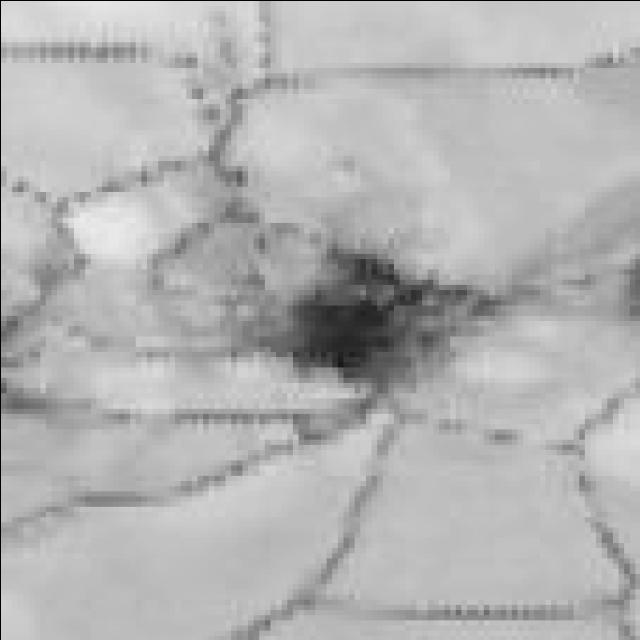good_void: (233, 247, 509, 399)
